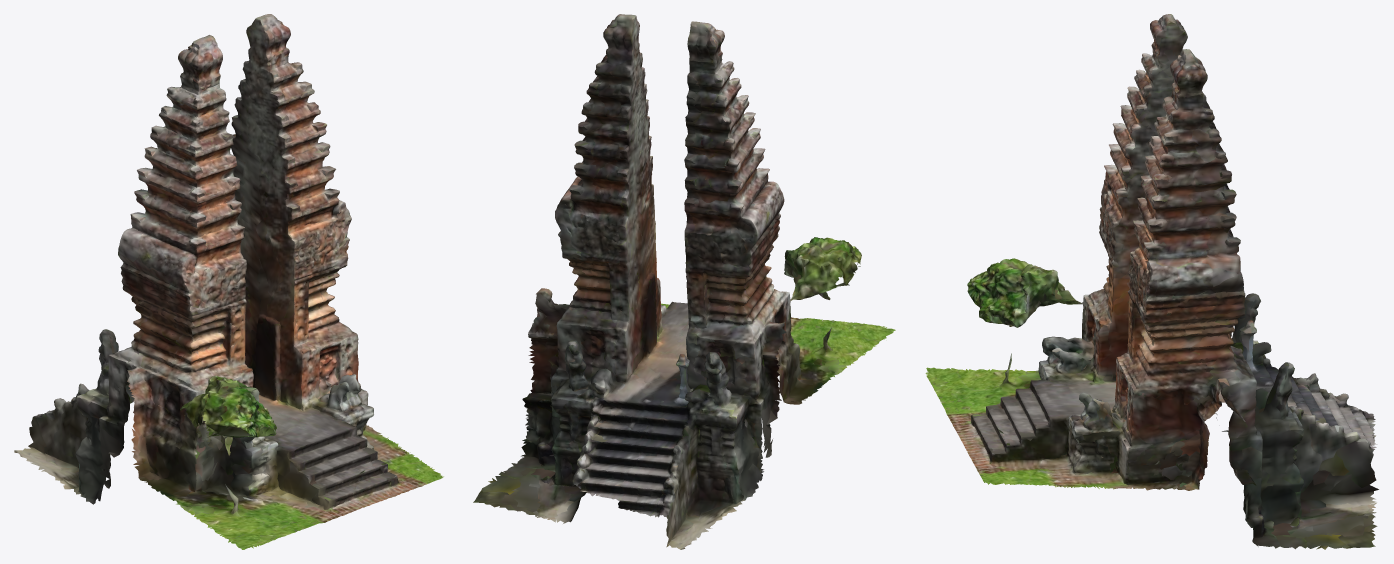
File: candi-bentar-high.glb
3 views of the same model, side by side, from view 1: azimuth 30°, elevation 25°; view 2: azimuth 150°, elevation 25°; view 3: azimuth 270°, elevation 25° (orthographic). The views are drawn at different scales.
Parts seen in each view (by area): view 1: candi-stone-0, candi-stone-1, candi-stone-2, candi-stone-4, candi-stone-3; view 2: candi-stone-4, candi-stone-0, candi-stone-1, candi-stone-2, candi-stone-3; view 3: candi-stone-2, candi-stone-0, candi-stone-4, candi-stone-3, candi-stone-1.
Boxes of the visible parts, x1,y1,x2,y2 form: candi-stone-0: (14, 20, 393, 546); candi-stone-1: (52, 16, 401, 549); candi-stone-2: (33, 14, 443, 540); candi-stone-4: (29, 16, 395, 539); candi-stone-3: (21, 14, 402, 536); candi-stone-4: (502, 15, 879, 543); candi-stone-0: (536, 16, 883, 549); candi-stone-1: (499, 15, 895, 532); candi-stone-2: (477, 16, 866, 523); candi-stone-3: (473, 14, 861, 547); candi-stone-2: (933, 19, 1378, 548); candi-stone-0: (926, 20, 1375, 536); candi-stone-4: (933, 14, 1377, 541); candi-stone-3: (933, 16, 1377, 549); candi-stone-1: (925, 26, 1376, 549).
Size of the model in its own units: 0.522 by 0.9878 by 0.8791.
Materials: 5 (5 with a texture image).
